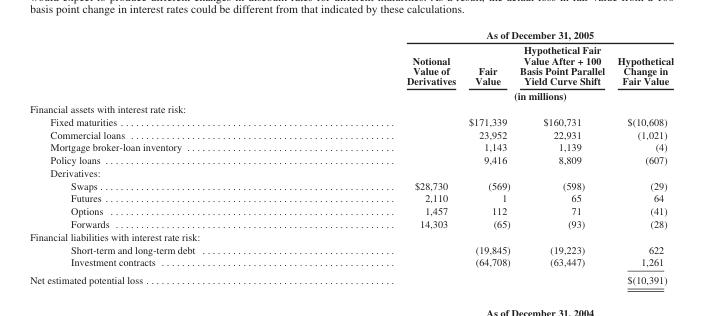table: (29, 28, 673, 285)
table column: (29, 28, 300, 285), (300, 28, 461, 285), (514, 28, 610, 285), (610, 28, 673, 285), (461, 28, 514, 285)
table column header: (29, 28, 673, 102)
table projected row header: (29, 229, 673, 242), (29, 102, 673, 114), (29, 166, 673, 178)
table row: (29, 42, 673, 88), (29, 255, 673, 270), (29, 270, 673, 285), (29, 28, 673, 42), (29, 88, 673, 102), (29, 114, 673, 127), (29, 127, 673, 140), (29, 140, 673, 153), (29, 153, 673, 166), (29, 178, 673, 191), (29, 191, 673, 204), (29, 204, 673, 217), (29, 229, 673, 242), (29, 242, 673, 255), (29, 102, 673, 114), (29, 166, 673, 178), (29, 217, 673, 229)
table spanning cell: (300, 28, 673, 42), (300, 88, 673, 102)
